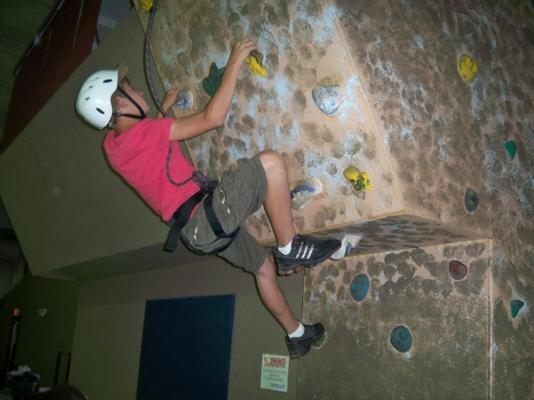person: (75, 38, 343, 363)
